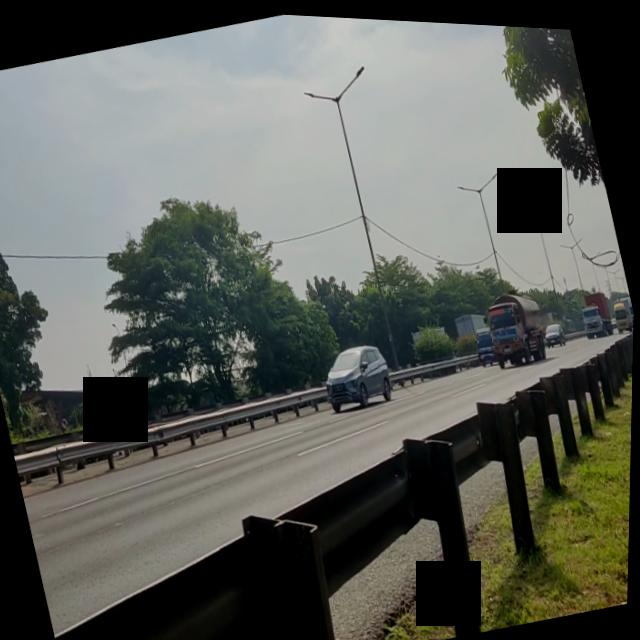Golongan I: (312, 321, 407, 421)
